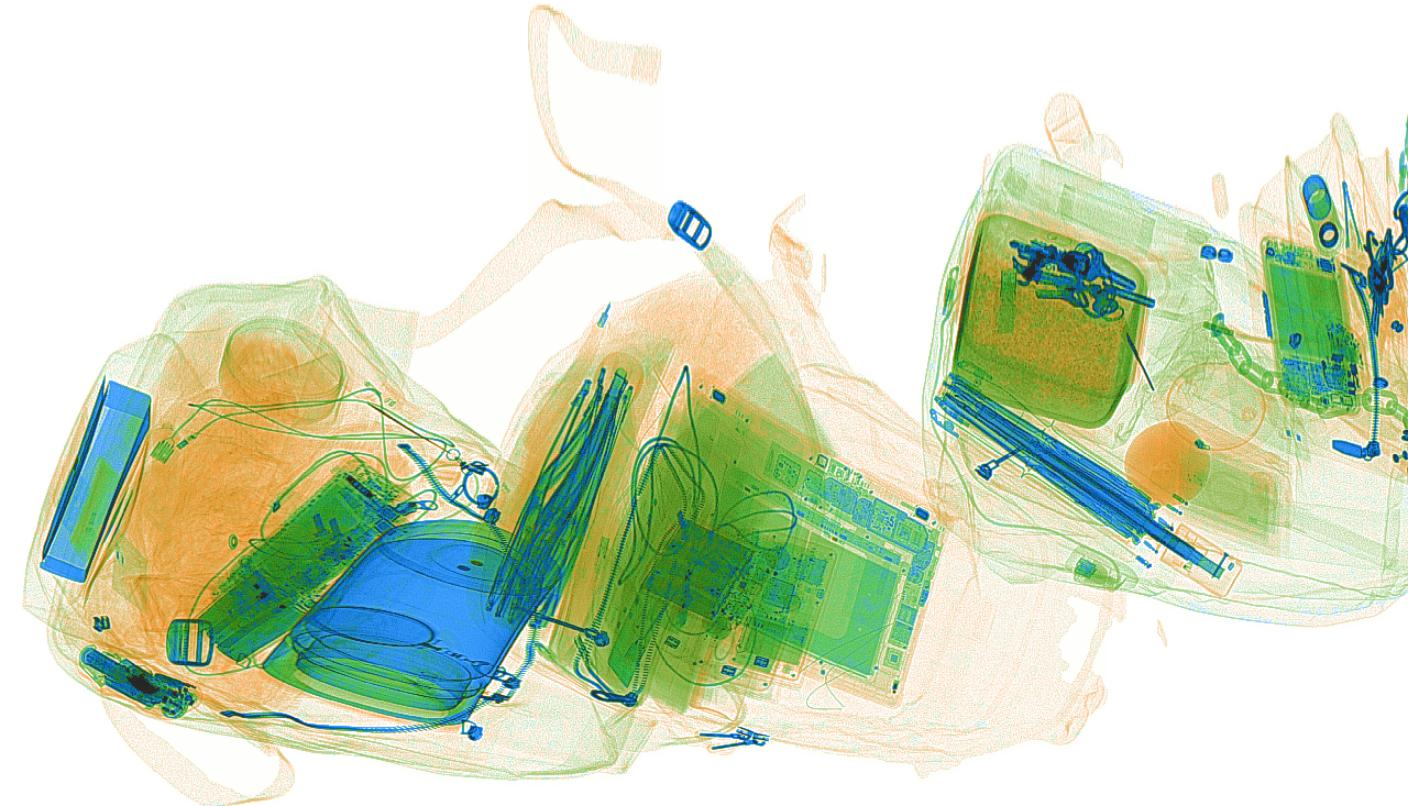USBFlashDisk: (994, 265, 1021, 341)
battery: (183, 562, 341, 662), (641, 509, 768, 624), (77, 645, 139, 685)
